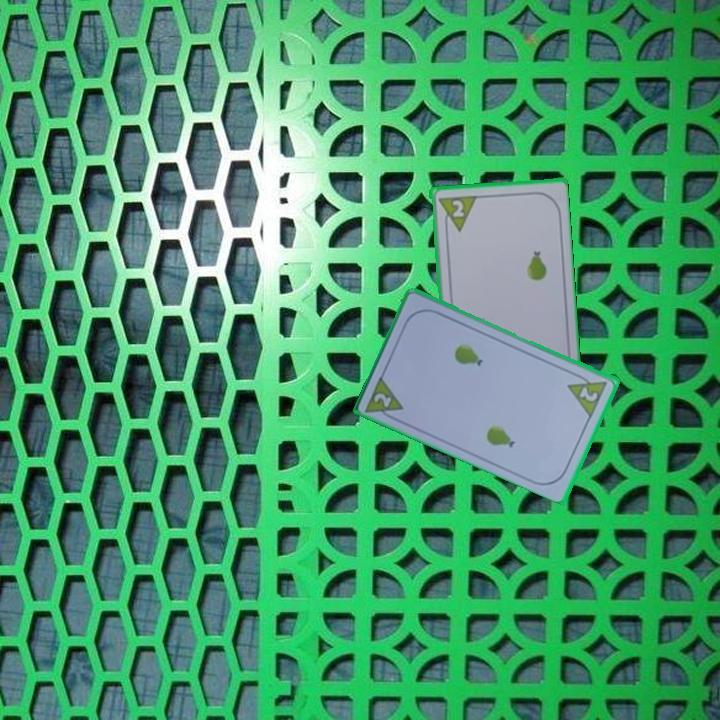2p: (362, 371, 407, 425), (564, 369, 611, 419), (447, 196, 466, 220)
